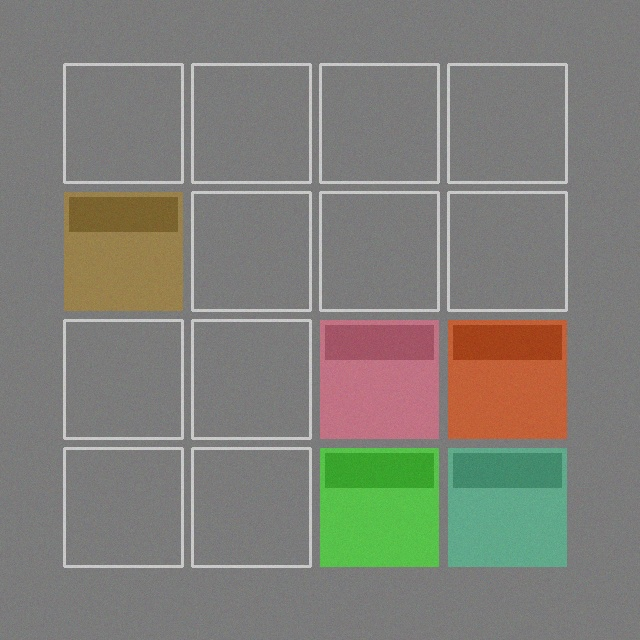space-empty: (64, 64, 182, 182), (192, 64, 310, 182), (320, 64, 438, 182), (448, 64, 566, 182), (192, 192, 310, 310), (320, 192, 438, 310), (448, 192, 566, 310), (64, 320, 182, 438), (192, 320, 310, 438), (64, 448, 182, 566), (192, 448, 310, 566)
space-occupied: (64, 192, 182, 310), (320, 320, 438, 438), (448, 320, 566, 438), (320, 448, 438, 566), (448, 448, 566, 566)
